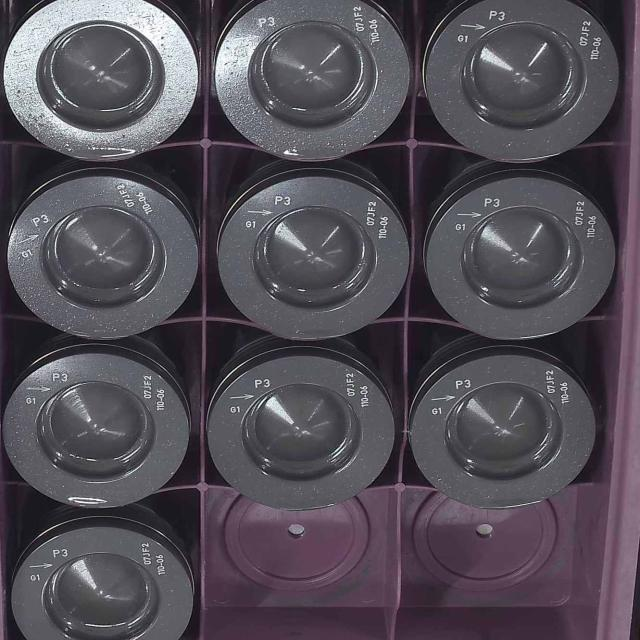P3: (418, 0, 624, 166), (214, 173, 413, 344), (0, 174, 202, 334), (424, 179, 612, 344), (207, 0, 405, 151), (4, 2, 192, 160), (204, 356, 394, 509), (2, 354, 190, 506), (409, 355, 596, 507), (8, 524, 199, 640)
